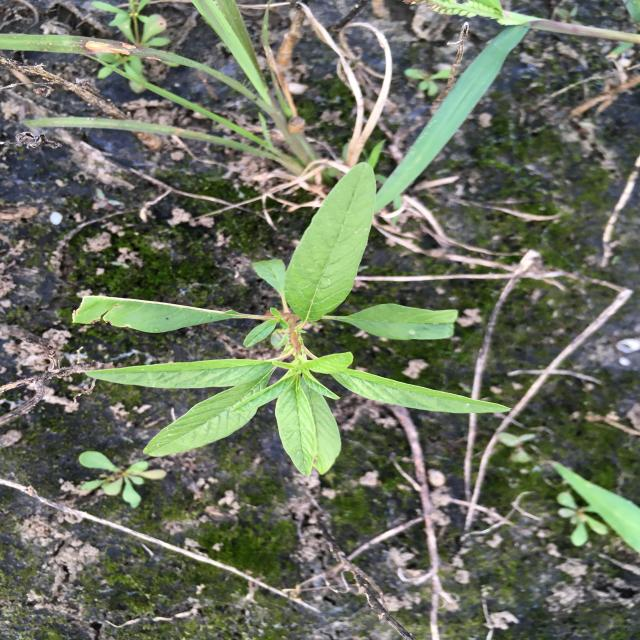Carpetweed: (76, 1, 176, 98), (72, 448, 156, 514)
Waterhemp: (70, 161, 515, 478)
